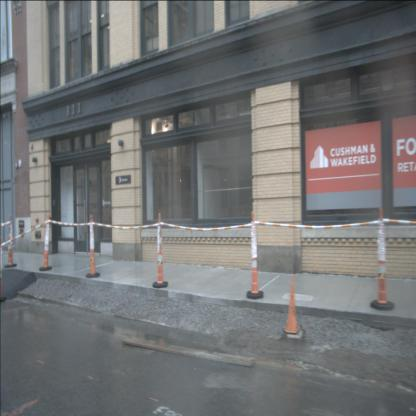cone: (370, 208, 394, 310), (246, 211, 264, 299), (152, 212, 168, 288), (283, 274, 301, 334), (86, 214, 100, 278), (3, 215, 17, 268), (39, 214, 52, 271), (0, 235, 6, 303)
